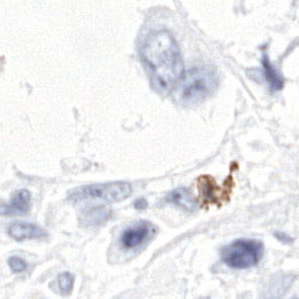Lymphocyte: (192, 172, 235, 207)
